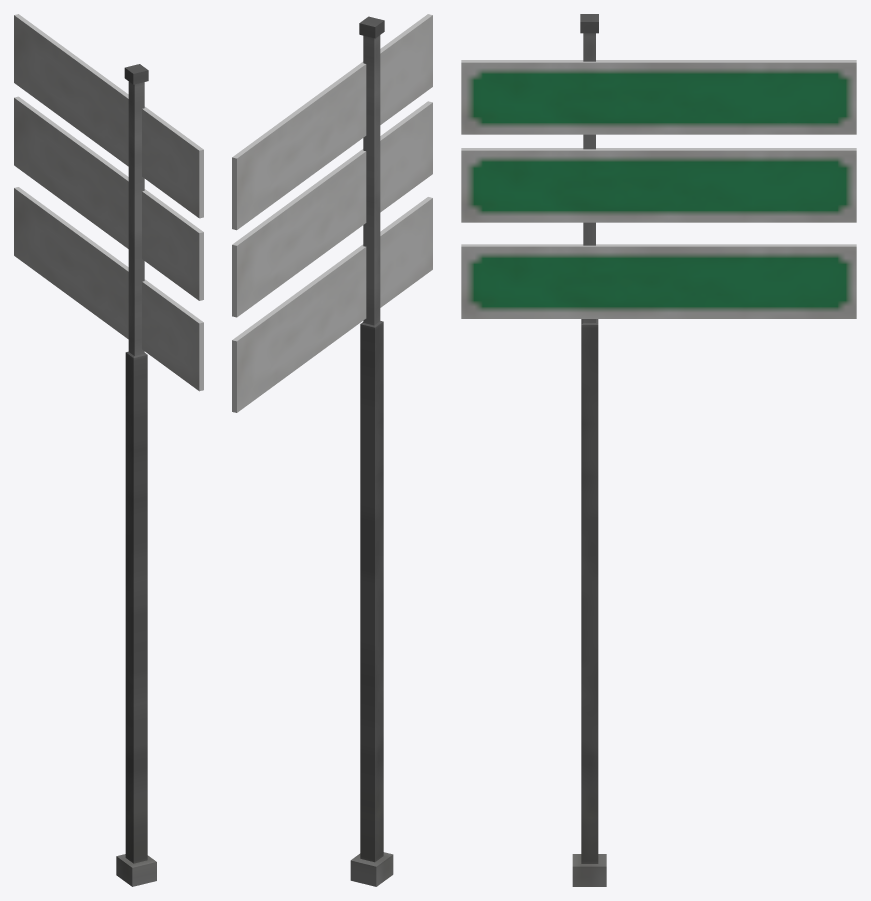
The model's file is streetsign_WITHuv.fbx.
3 views of the same model, side by side, from view 1: azimuth 30°, elevation 25°; view 2: azimuth 150°, elevation 25°; view 3: azimuth 270°, elevation 25° (orthographic). The views are drawn at different scales.
Parts seen in each view (by area): view 1: Cube, Cube.001, Cube.003, Cube.002; view 2: Cube, Cube.001, Cube.002, Cube.003; view 3: Cube.001, Cube.002, Cube.003, Cube.
Part boxes in pixels (x1=…): Cube: x1=116, y1=64, x2=156, y2=886; Cube.001: x1=14, y1=14, x2=203, y2=218; Cube.003: x1=14, y1=187, x2=203, y2=391; Cube.002: x1=14, y1=96, x2=203, y2=300; Cube: x1=350, y1=16, x2=393, y2=886; Cube.001: x1=232, y1=14, x2=432, y2=230; Cube.002: x1=232, y1=101, x2=432, y2=317; Cube.003: x1=232, y1=197, x2=432, y2=412; Cube.001: x1=461, y1=60, x2=856, y2=134; Cube.002: x1=461, y1=148, x2=856, y2=222; Cube.003: x1=461, y1=244, x2=856, y2=318; Cube: x1=572, y1=14, x2=606, y2=886.
Bounding box in the file's own units: 6 × 189 × 78.57.
